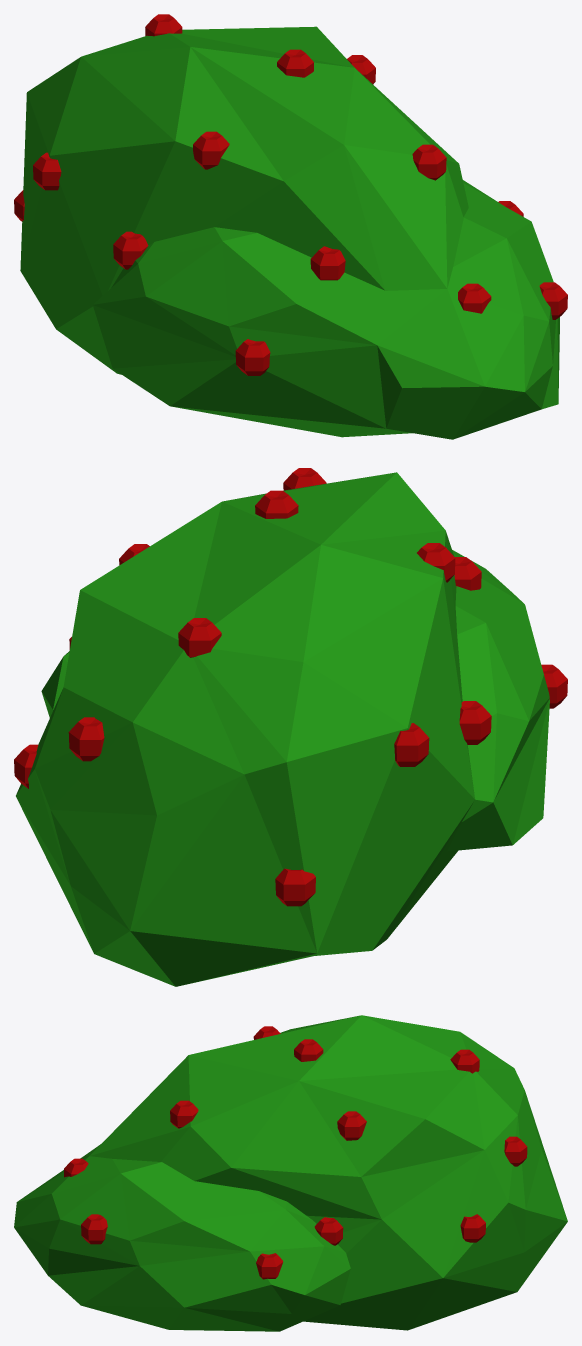
File: berry bush.fbx
The picture shows the model from 3 angles, top to bottom: view 1: azimuth 30°, elevation 25°; view 2: azimuth 150°, elevation 25°; view 3: azimuth 270°, elevation 25°; orthographic projection. The views are drawn at different scales.
Parts seen in each view (by area): view 1: berry bush 1; view 2: berry bush 1; view 3: berry bush 1.
Boxes of the visible parts, box(x1,y1,x2,y2) form: berry bush 1: box(14, 14, 567, 439); berry bush 1: box(14, 468, 567, 986); berry bush 1: box(14, 1015, 567, 1331).
Size of the model in its own units: 164 by 130 by 250.
